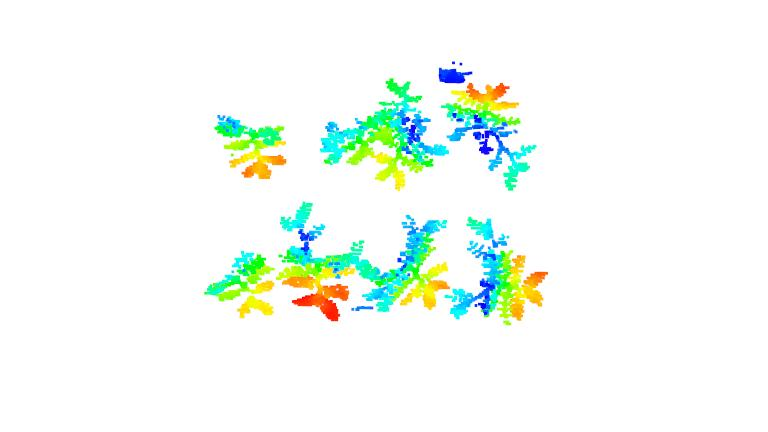chickpea: (445, 77, 535, 192), (452, 217, 546, 326), (276, 202, 360, 319), (375, 72, 447, 190), (370, 214, 451, 313), (204, 249, 279, 321), (213, 110, 290, 180), (314, 113, 373, 166)
